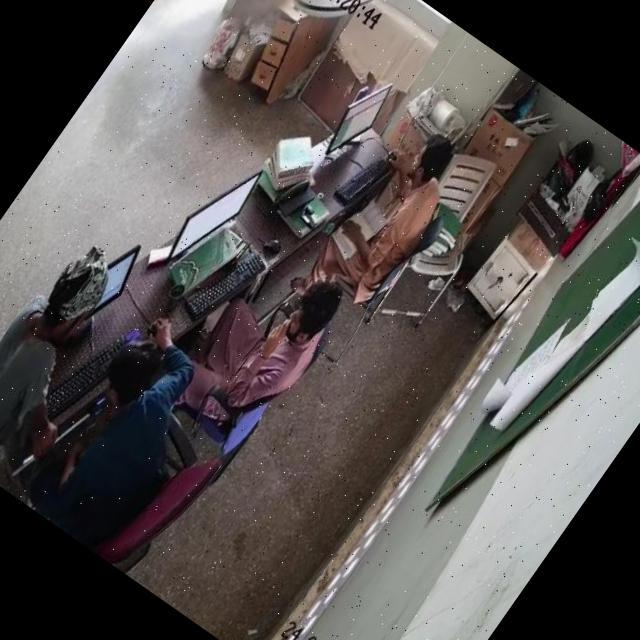person: (32, 316, 232, 544), (176, 234, 357, 440), (0, 232, 123, 472), (331, 124, 472, 294)
